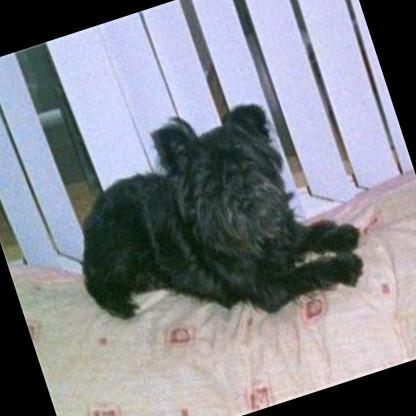affenpinscher: (42, 68, 376, 364)
